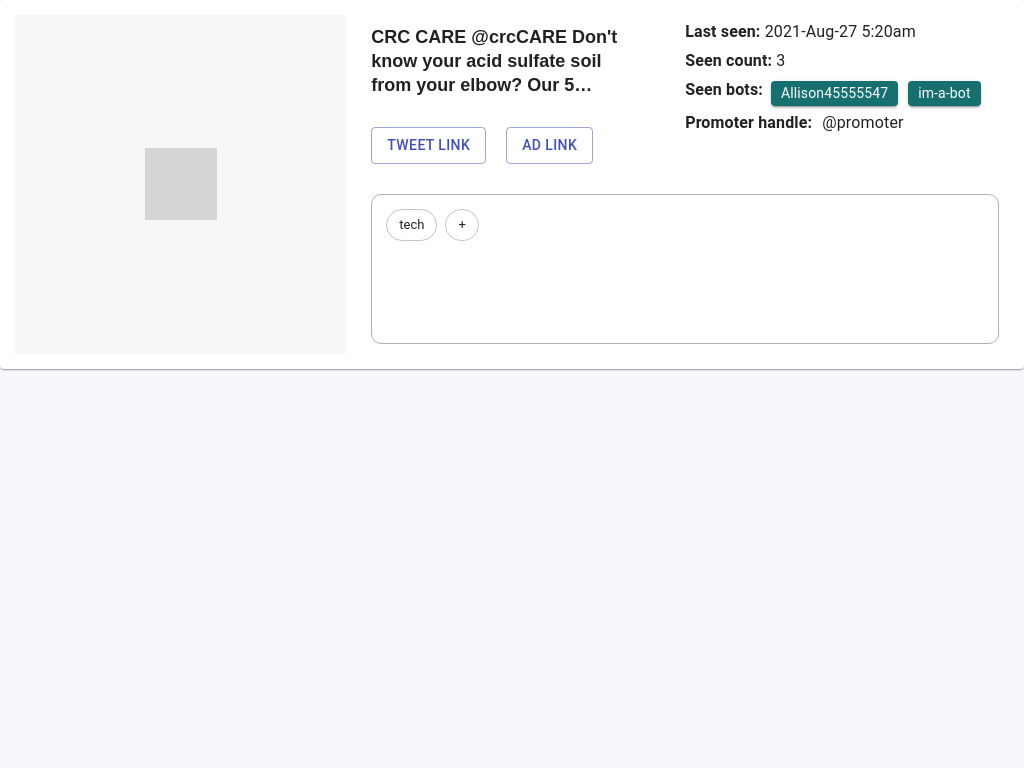
Test: CLI-29: Twitter Political Inclination in bot details
The width and height of the screenshot is (1024, 768).
Expected: the text "Allison45555547" is shown, [781, 83, 888, 104]
Click the button "Allison45555547".
click(835, 94)  # box [771, 81, 898, 106]
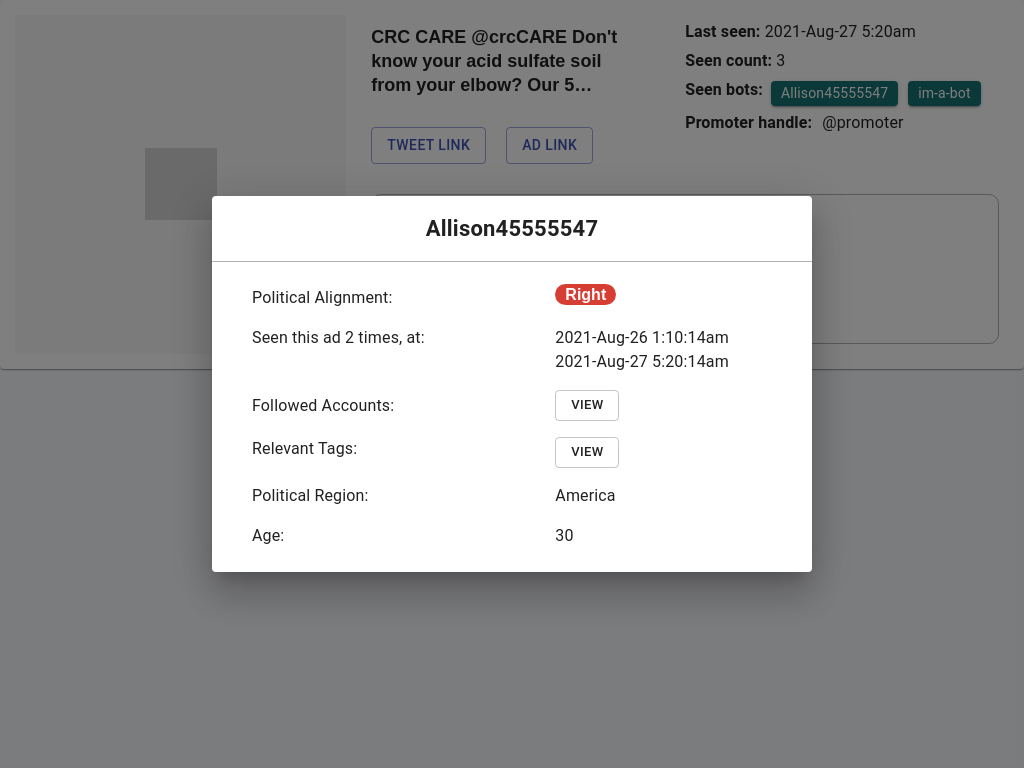
Result: the text "Political Alignment:" is shown at [252, 288, 392, 307]
Result: the text "Right" is shown at [555, 284, 616, 305]
